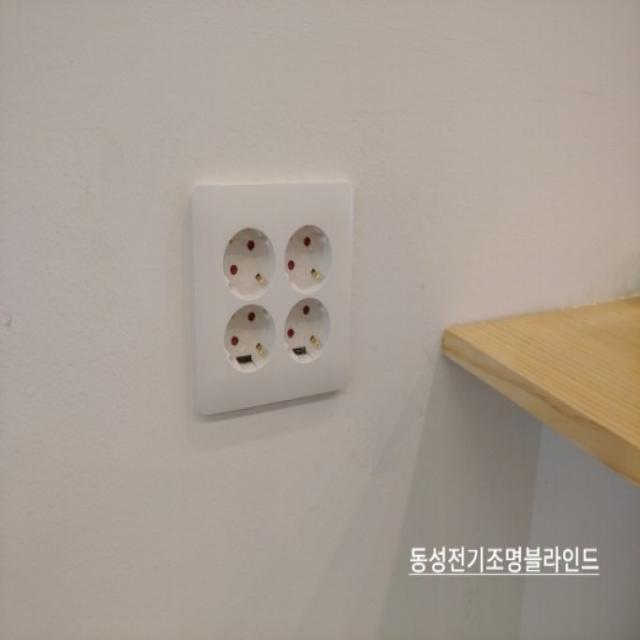typeb: (150, 146, 387, 454)
